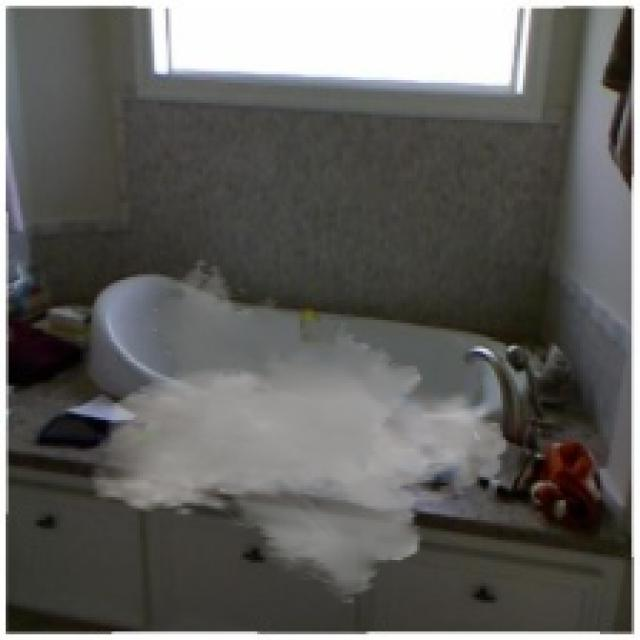smoke: (89, 257, 508, 606)
